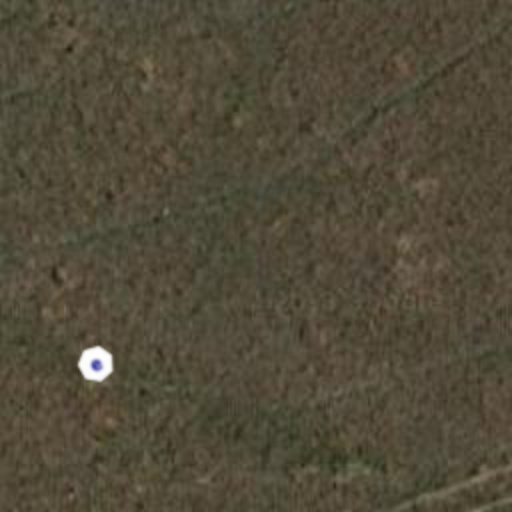heptagon: (70, 338, 122, 390)
